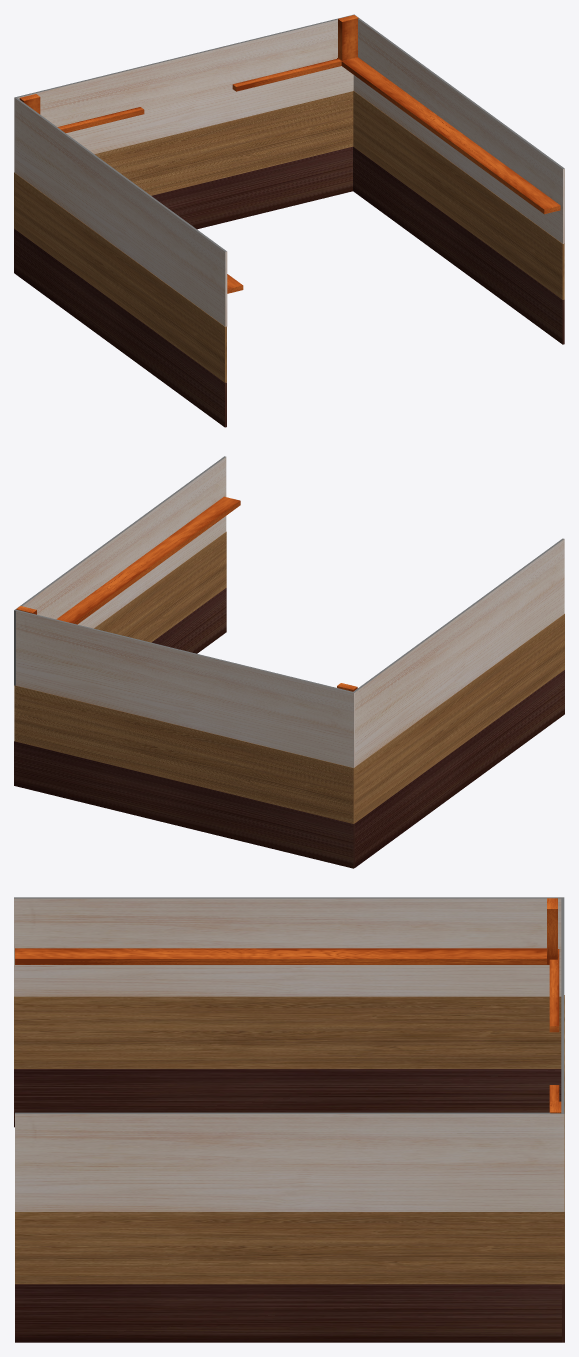
Rendered from Kitroom2.obj.
3 views of the same model, one above another, from view 1: azimuth 30°, elevation 25°; view 2: azimuth 150°, elevation 25°; view 3: azimuth 270°, elevation 25° (orthographic). The views are drawn at different scales.
Visible parts, largest first — view 1: polySurface8; view 2: polySurface8; view 3: polySurface8.
Boxes of the visible parts, x1,y1,x2,y2 form: polySurface8: (14, 14, 564, 427); polySurface8: (14, 456, 564, 868); polySurface8: (14, 897, 564, 1342).
Size of the model in its own units: 21.75 by 10.76 by 23.37.
